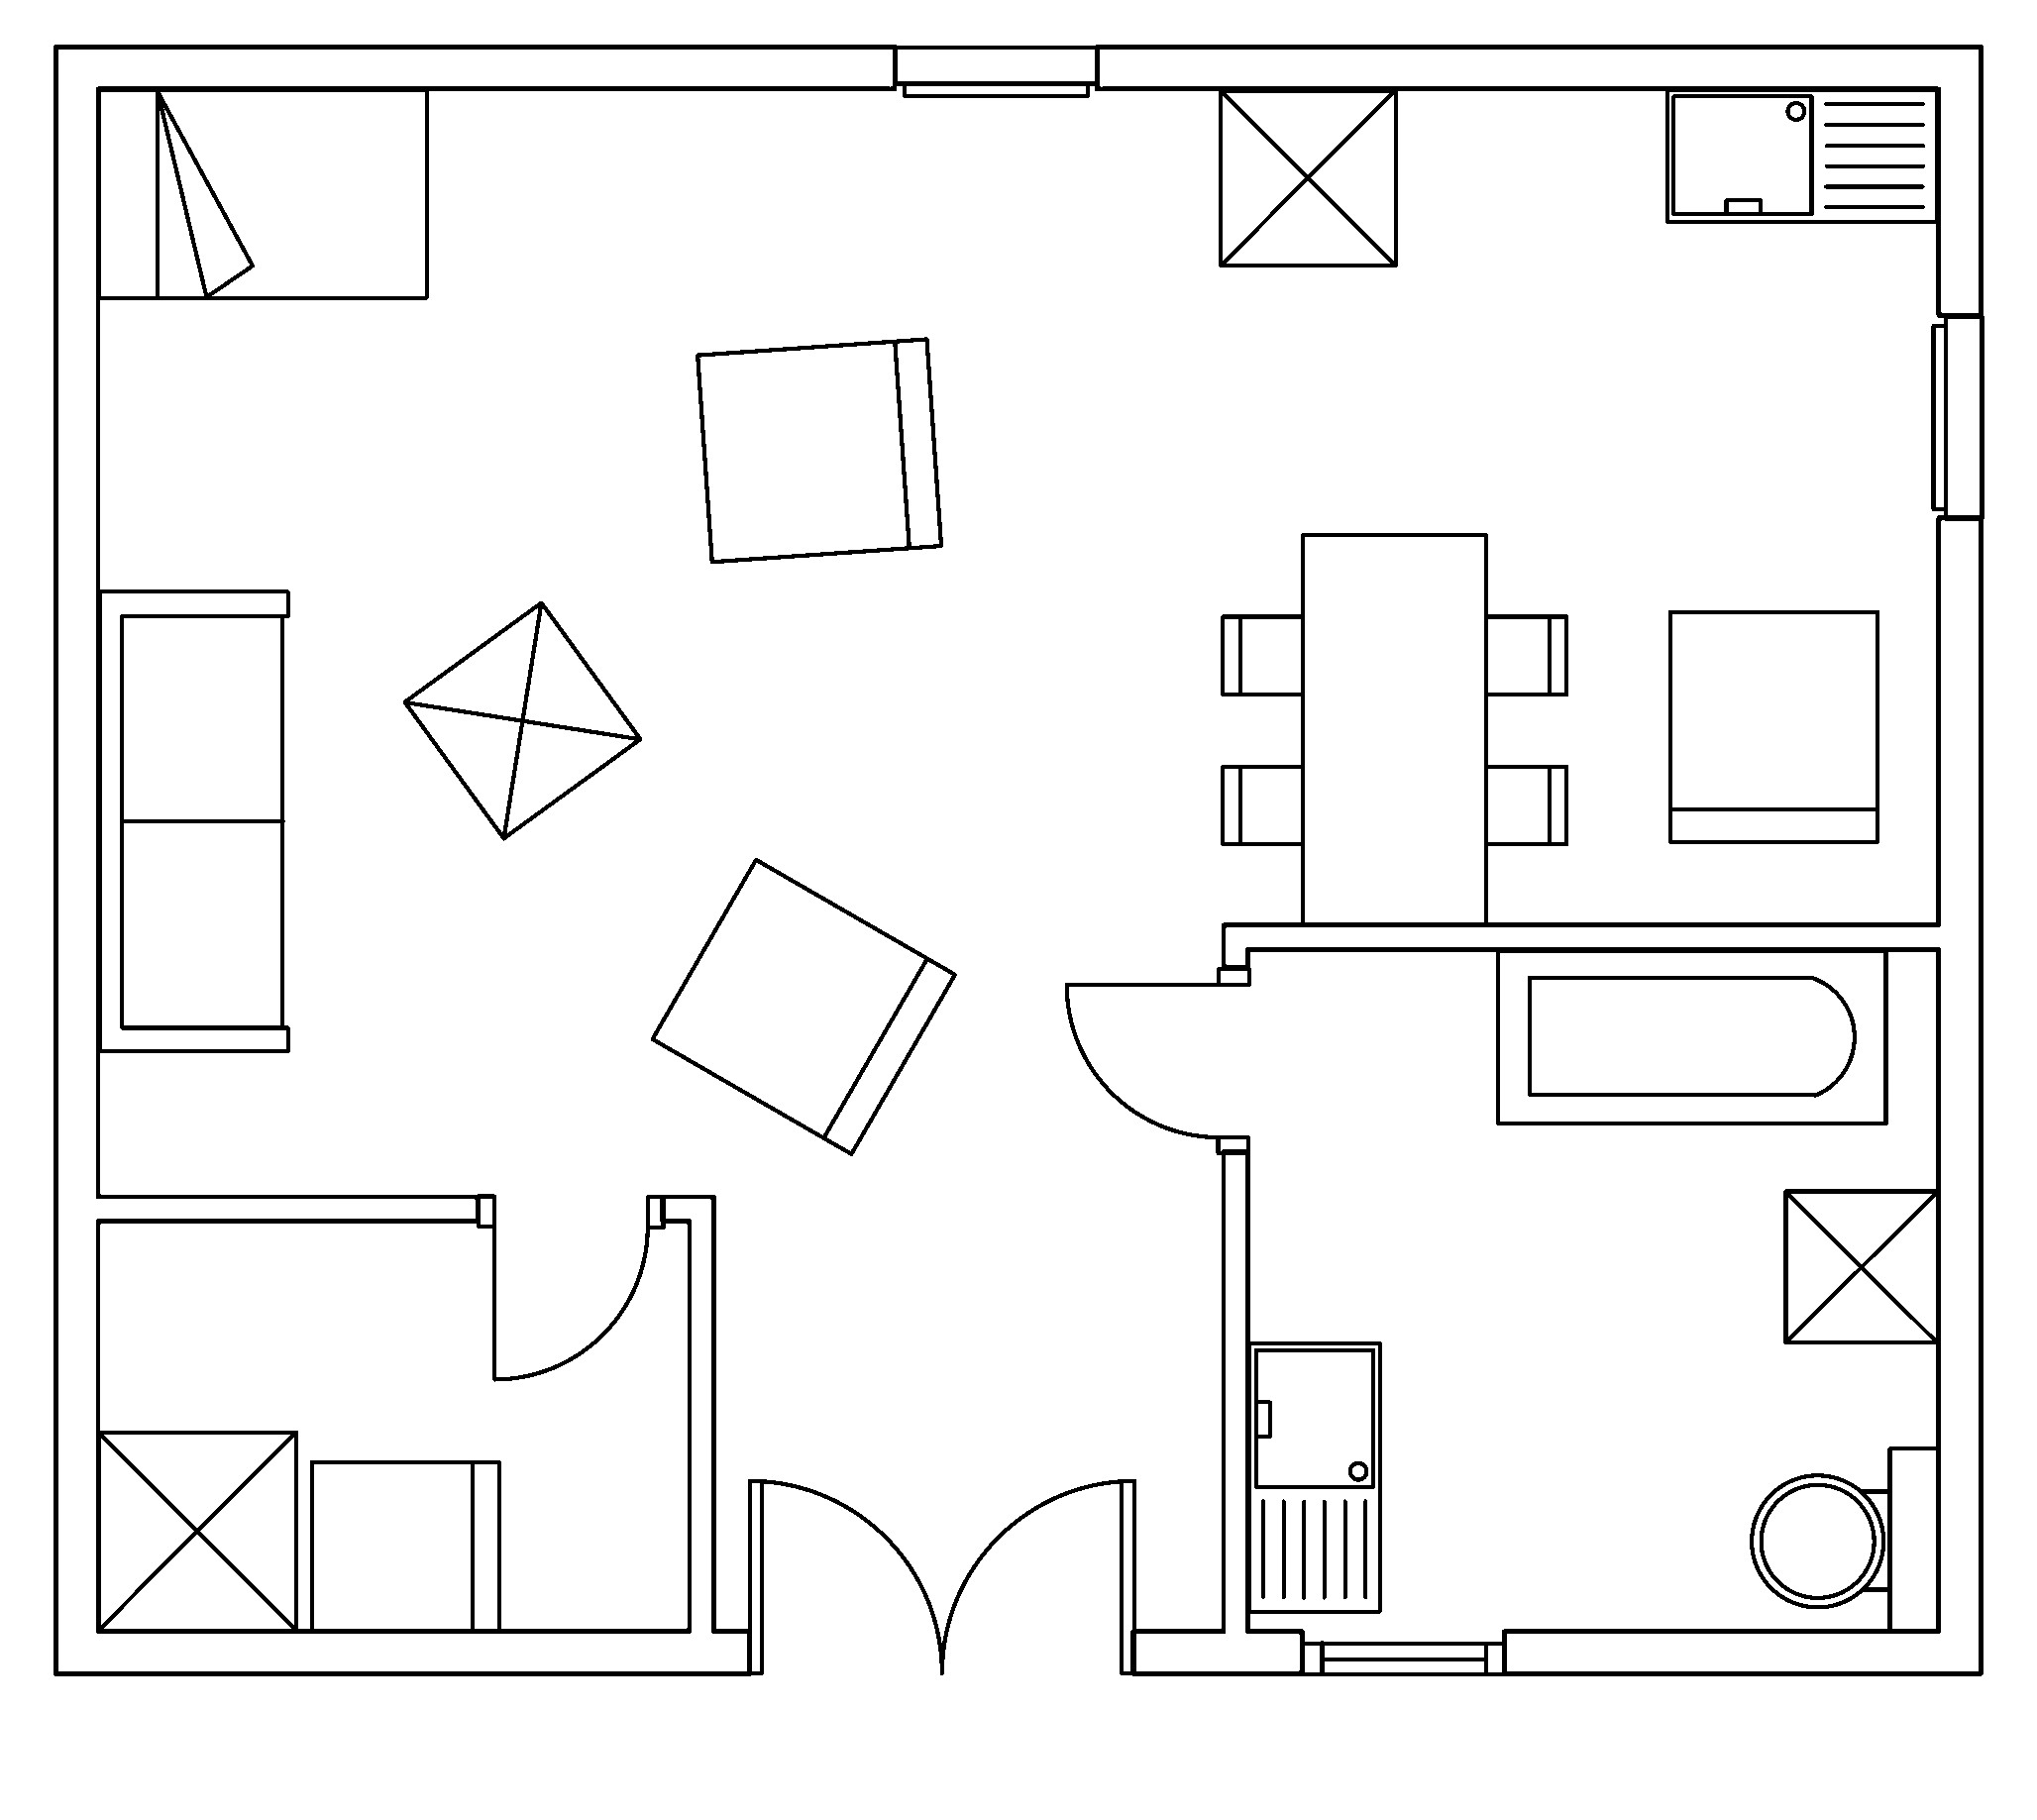bed: (95, 86, 428, 300)
coffee_table: (402, 599, 643, 841), (95, 1428, 299, 1632), (1217, 86, 1398, 267), (1781, 1188, 1940, 1346)
dining_table: (1219, 531, 1568, 926)
large_sink: (1749, 1444, 1940, 1632)
large_sofa: (95, 587, 290, 1052)
sink: (1663, 86, 1940, 223), (1245, 1339, 1382, 1614)
small_sofa: (650, 856, 957, 1156), (694, 336, 943, 564), (1666, 608, 1879, 843), (307, 1458, 500, 1632)
tub: (1494, 947, 1888, 1126)
